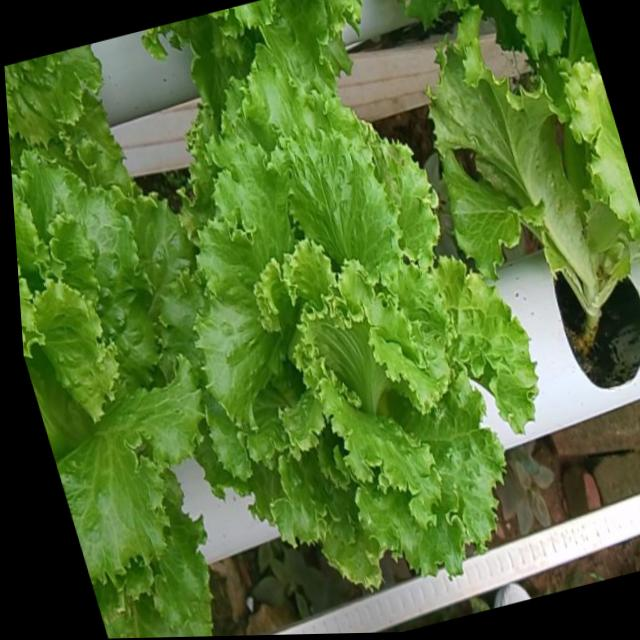Mature: (189, 78, 548, 597), (13, 162, 216, 607)
